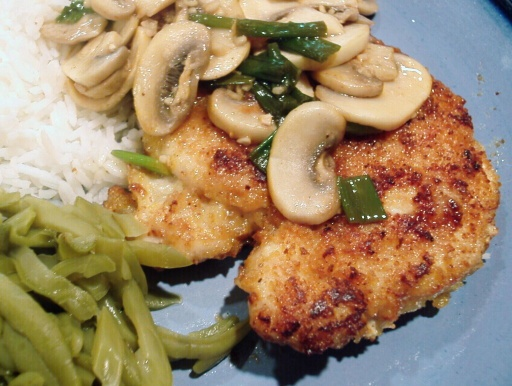background: (0, 0, 402, 233)
